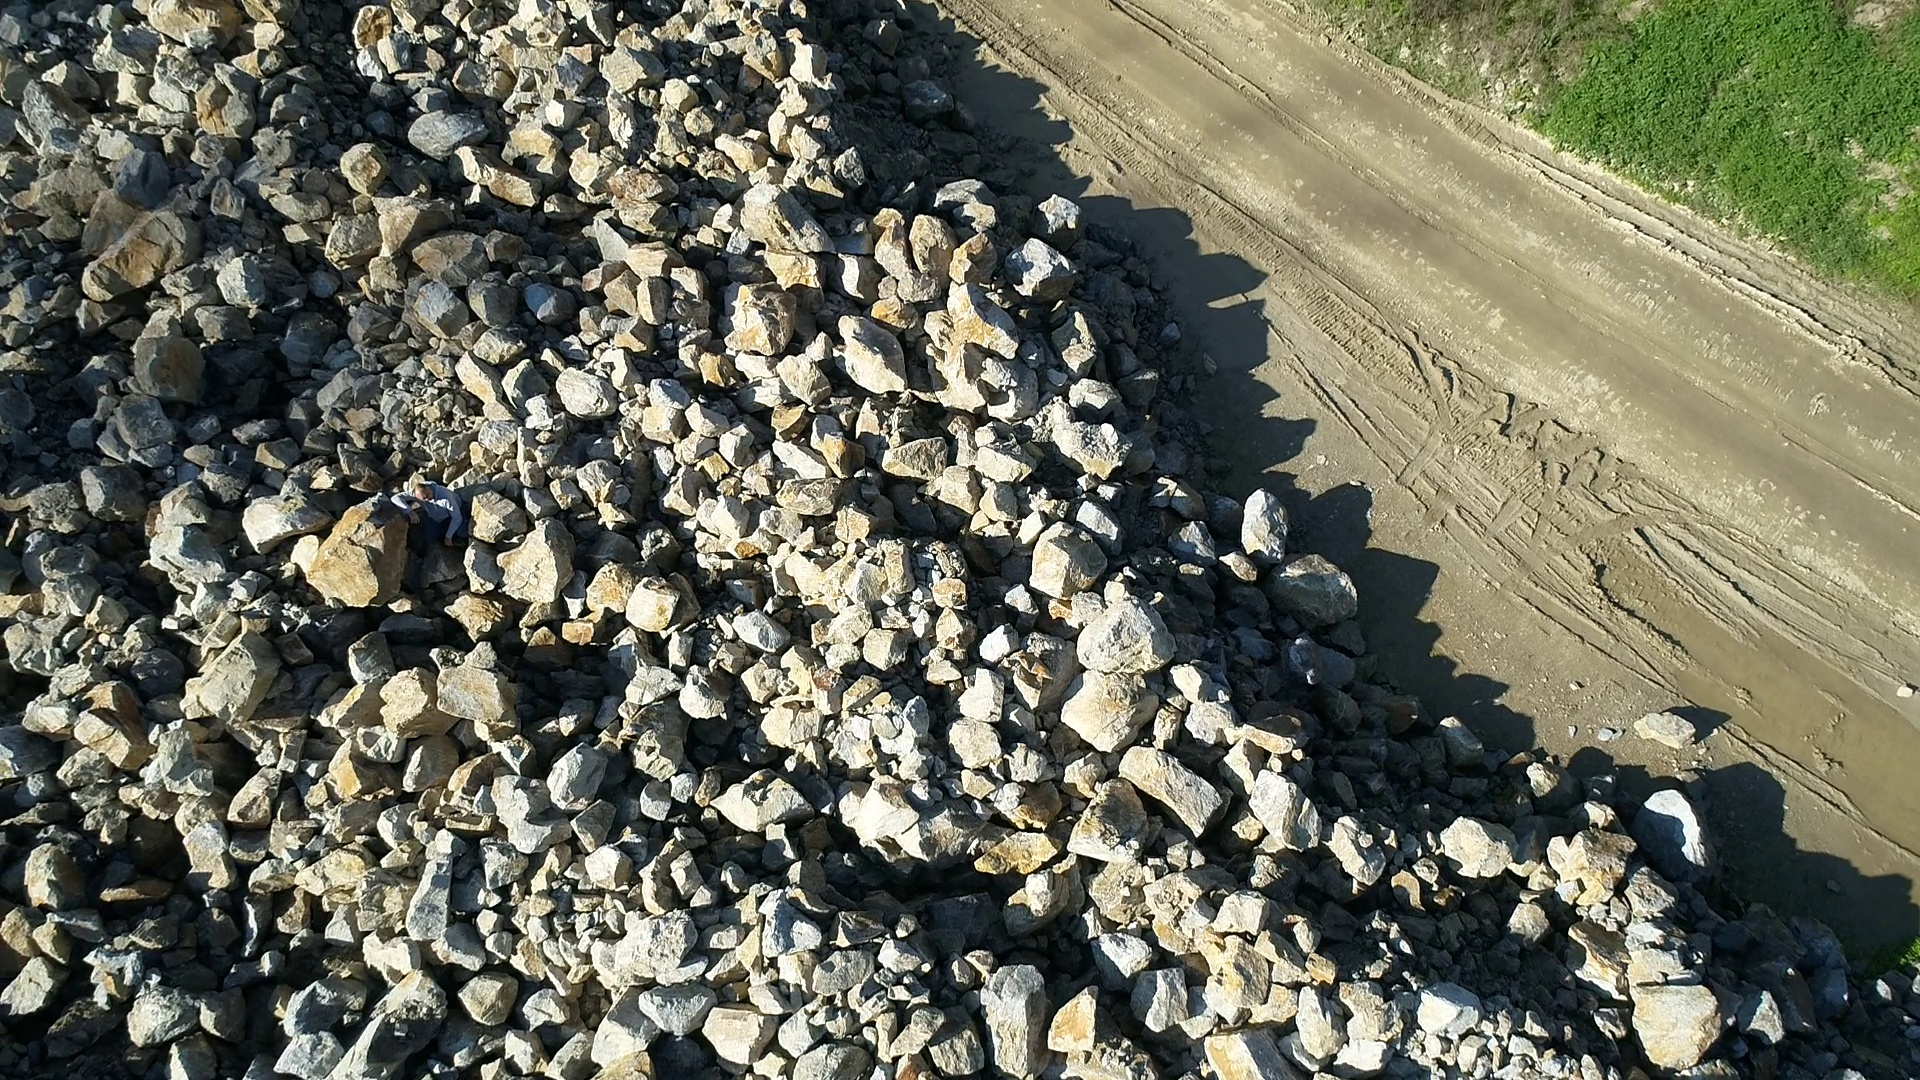person: (390, 480, 463, 550)
